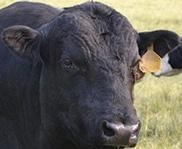muzzles: (94, 116, 141, 148)
